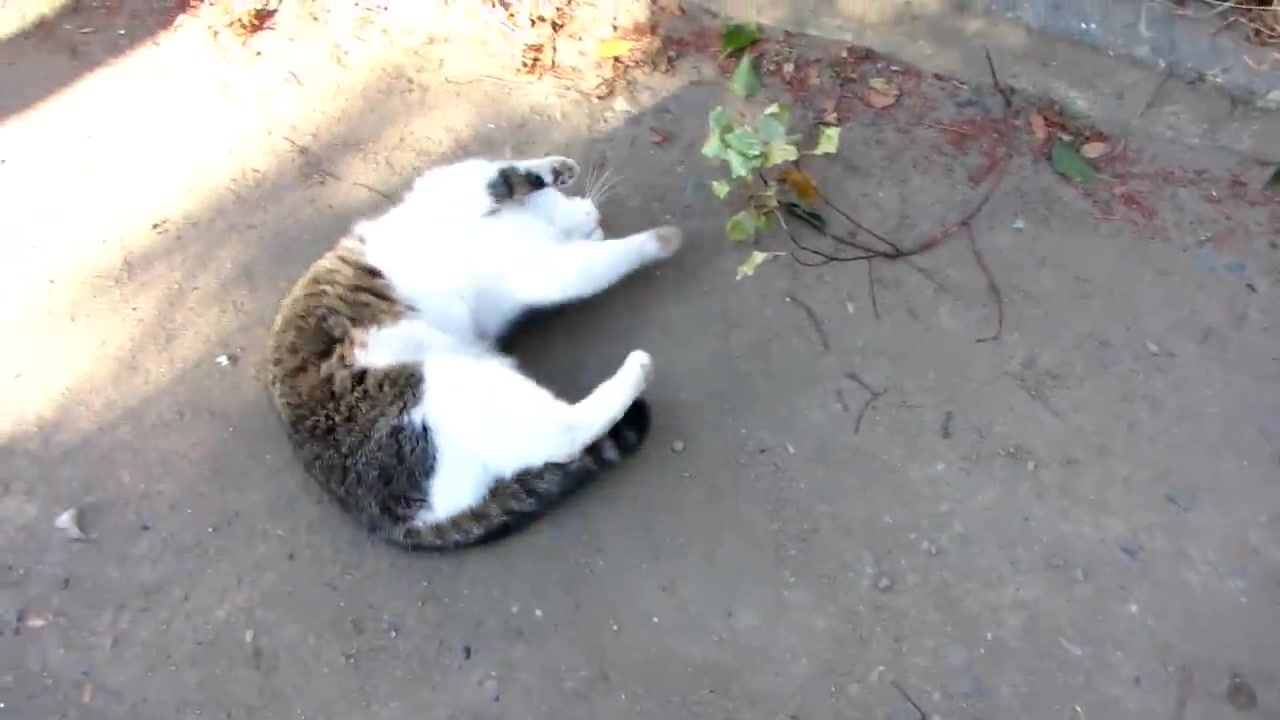cat: (263, 155, 691, 565)
